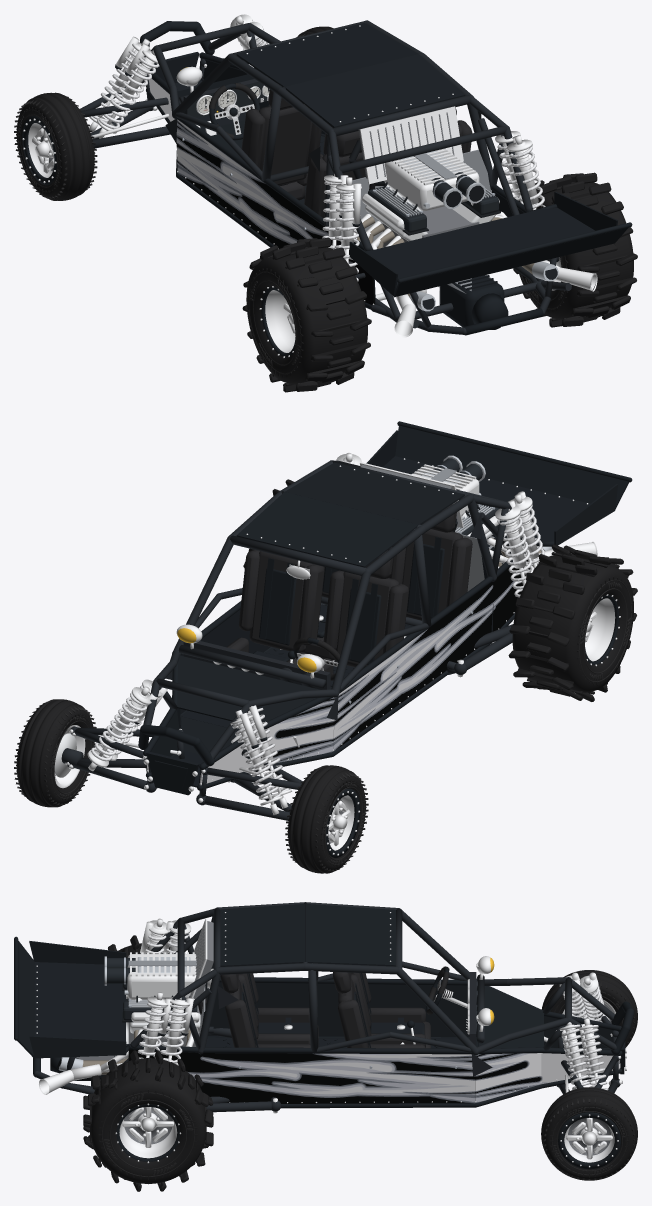
File: sandcar.glb
3 views of the same model, one above another, from view 1: azimuth 30°, elevation 25°; view 2: azimuth 150°, elevation 25°; view 3: azimuth 270°, elevation 25° (orthographic). The views are drawn at different scales.
Parts seen in each view (by area): view 1: Chassis_Mesh, Wheel_RL_Mesh, Wheel_RR_Mesh, Wheel_FL_Mesh, Shock_FL_Mesh, Shock_RL_2_Mesh, Shock_RR_2_Mesh, Shock_FL_2_Mesh, SteeringWheel_Mesh, Shock_RL_Mesh, Link_FL_Lower_0, Shock_RR_Mesh (+1 smaller); view 2: Chassis_Mesh, Wheel_RL_Mesh, Wheel_FL_Mesh, Wheel_FR_Mesh, Shock_FR_2_Mesh, Shock_RL_Mesh, Shock_FL_2_Mesh, Shock_FL_Mesh, Shock_RL_2_Mesh, Link_FL_Lower_2, Link_FR_Lower_2, Link_RL_Lower_2 (+1 smaller); view 3: Chassis_Mesh, Wheel_RR_Mesh, Wheel_FR_Mesh, Wheel_FL_Mesh, Shock_RR_2_Mesh, Shock_RR_Mesh, Shock_FR_2_Mesh, Shock_FR_Mesh, Link_RR_Lower_2, Shock_RL_2_Mesh, Shock_FL_2_Mesh, SteeringWheel_Mesh (+2 smaller).
Part boxes in pixels (bbox=[...]): Chassis_Mesh: bbox=[140, 20, 632, 337]; Wheel_RL_Mesh: bbox=[242, 237, 371, 392]; Wheel_RR_Mesh: bbox=[513, 172, 637, 327]; Wheel_FL_Mesh: bbox=[14, 92, 97, 200]; Shock_FL_Mesh: bbox=[96, 43, 159, 138]; Shock_RL_2_Mesh: bbox=[334, 177, 361, 281]; Shock_RR_2_Mesh: bbox=[507, 135, 545, 210]; Shock_FL_2_Mesh: bbox=[89, 36, 150, 132]; SteeringWheel_Mesh: bbox=[209, 83, 260, 140]; Shock_RL_Mesh: bbox=[322, 174, 348, 253]; Link_FL_Lower_0: bbox=[92, 126, 170, 148]; Shock_RR_Mesh: bbox=[495, 131, 523, 204]; Chassis_Mesh: bbox=[138, 421, 632, 796]; Wheel_RL_Mesh: bbox=[508, 544, 637, 701]; Wheel_FL_Mesh: bbox=[285, 765, 368, 873]; Wheel_FR_Mesh: bbox=[14, 699, 96, 807]; Shock_FR_2_Mesh: bbox=[87, 686, 157, 771]; Shock_RL_Mesh: bbox=[495, 500, 533, 597]; Shock_FL_2_Mesh: bbox=[230, 710, 282, 814]; Shock_FL_Mesh: bbox=[247, 705, 291, 808]; Shock_RL_2_Mesh: bbox=[511, 491, 544, 575]; Link_FL_Lower_2: bbox=[196, 794, 289, 820]; Link_FR_Lower_2: bbox=[65, 760, 157, 792]; Link_RL_Lower_2: bbox=[454, 632, 512, 677]; Chassis_Mesh: bbox=[14, 902, 634, 1108]; Wheel_RR_Mesh: bbox=[83, 1050, 213, 1191]; Wheel_FR_Mesh: bbox=[541, 1087, 637, 1180]; Wheel_FL_Mesh: bbox=[541, 970, 637, 1047]; Shock_RR_2_Mesh: bbox=[137, 992, 172, 1058]; Shock_RR_Mesh: bbox=[160, 997, 193, 1065]; Shock_FR_2_Mesh: bbox=[578, 1018, 608, 1090]; Shock_FR_Mesh: bbox=[559, 1022, 590, 1089]; Link_RR_Lower_2: bbox=[206, 1098, 281, 1113]; Shock_RL_2_Mesh: bbox=[140, 918, 168, 953]; Shock_FL_2_Mesh: bbox=[579, 972, 608, 1022]; SteeringWheel_Mesh: bbox=[426, 966, 453, 1014].
Size of the model in its own units: 2.59 by 1.6 by 4.77.
26 materials, 2 textured.
